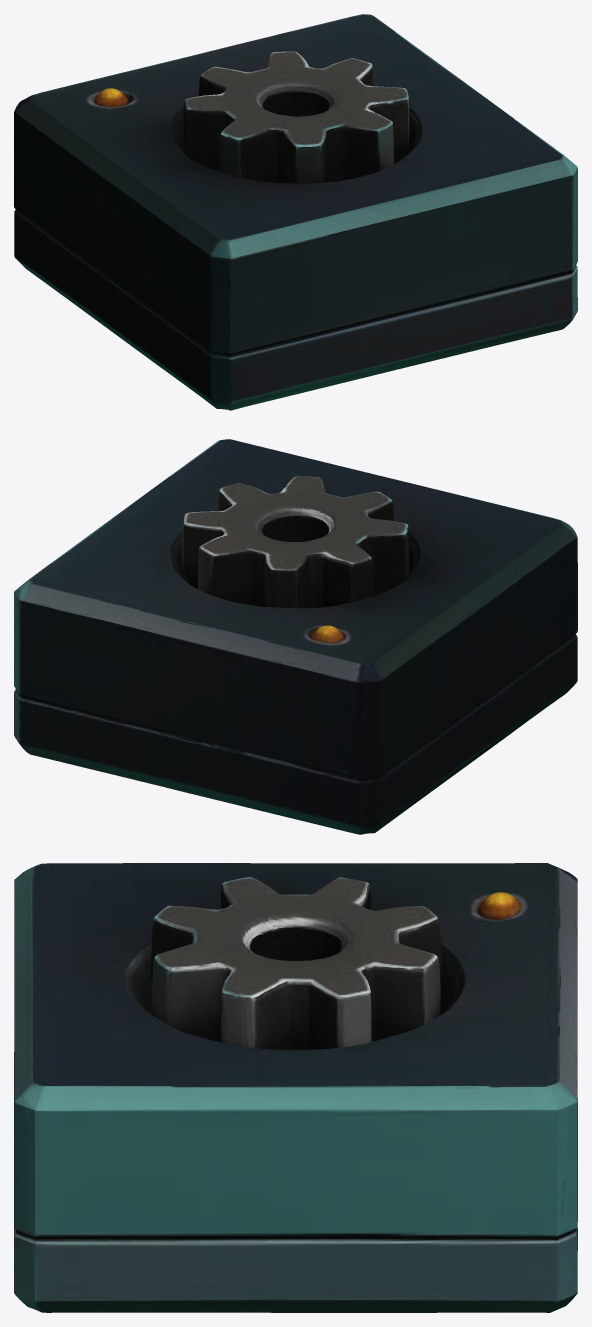
File: robo.glb
3 renders of one model, top to bottom at view 1: azimuth 30°, elevation 25°; view 2: azimuth 150°, elevation 25°; view 3: azimuth 270°, elevation 25°, orthographic. The views are drawn at different scales.
Size of the model in its own units: 1 by 0.5221 by 1.
Materials: 1 (1 with a texture image).
